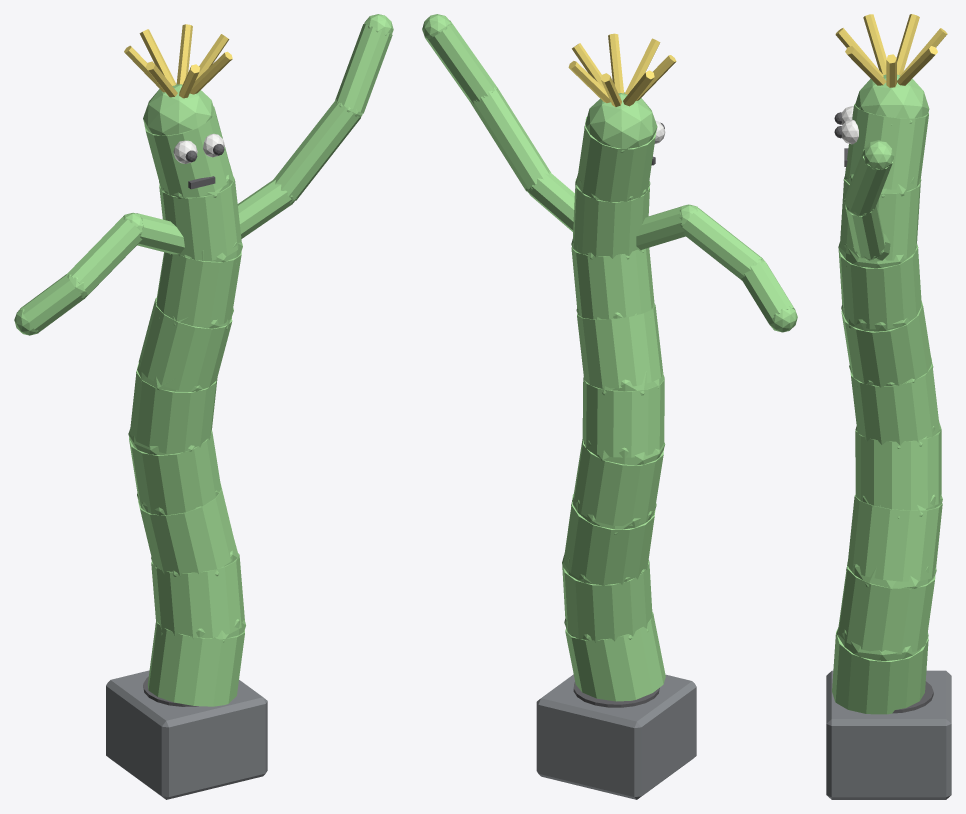
Rendered from tube_man.glb.
3 views of the same model, side by side, from view 1: azimuth 30°, elevation 25°; view 2: azimuth 150°, elevation 25°; view 3: azimuth 270°, elevation 25° (orthographic). The views are drawn at different scales.
Parts seen in each view (by area): view 1: tube_man_tube_g, tube_man_steel_d, tube_man_flag_y, tube_man_dark, tube_man_paint_w; view 2: tube_man_tube_g, tube_man_steel_d, tube_man_flag_y, tube_man_dark; view 3: tube_man_tube_g, tube_man_steel_d, tube_man_flag_y, tube_man_dark, tube_man_paint_w.
Boxes of the visible parts, x1,y1,x2,y2 form: tube_man_tube_g: [14, 14, 393, 706]; tube_man_steel_d: [106, 670, 267, 799]; tube_man_flag_y: [124, 24, 232, 98]; tube_man_dark: [143, 144, 224, 706]; tube_man_paint_w: [173, 133, 224, 163]; tube_man_tube_g: [422, 14, 797, 701]; tube_man_steel_d: [536, 674, 696, 799]; tube_man_flag_y: [568, 33, 676, 106]; tube_man_dark: [573, 122, 664, 707]; tube_man_tube_g: [832, 74, 942, 714]; tube_man_steel_d: [826, 670, 951, 799]; tube_man_flag_y: [835, 14, 947, 87]; tube_man_dark: [834, 112, 933, 713]; tube_man_paint_w: [841, 106, 858, 144].
Bounding box in the file's own units: 2.48 × 4.57 × 0.7.
